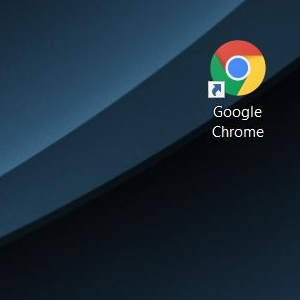chrome: (207, 39, 265, 98)
